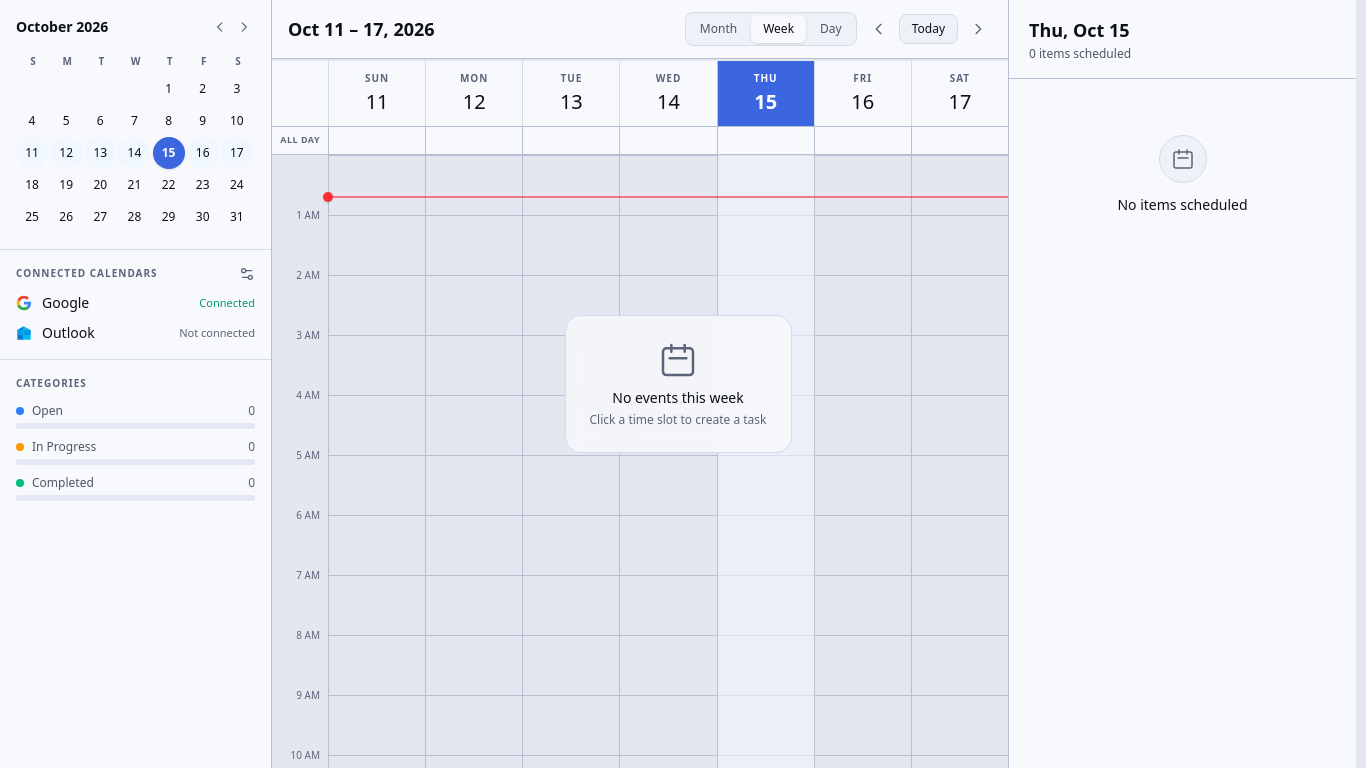
Calendar › disables sync direction changes when the firm locks calendar sync
Expected: the heading "Connected Calendars" is shown, [16,266,158,280]
Click the button named "Calendar settings" at (247, 274), box [235,262,259,286]
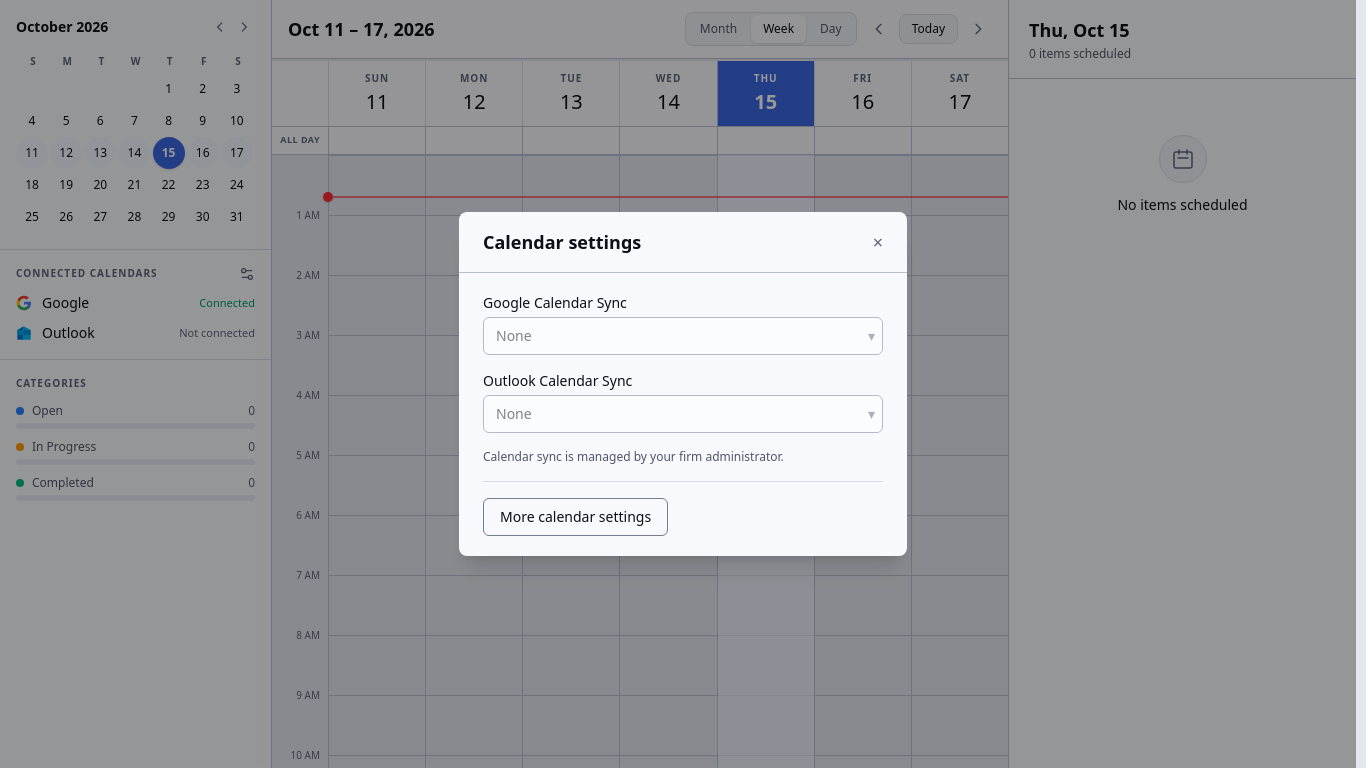
Now the button named "Google Calendar Sync" is disabled, box [483,317,883,355]
Now the text "Calendar sync is managed by your firm administrator." is shown, box [483,448,784,465]
